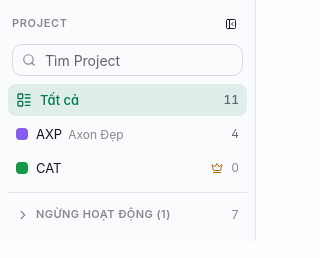
it: JobProjectSidebar (PD-067, PD-078) › searches code and name, accents ignored, in both groups
The image size is (320, 258).
In the search field labelled "Tìm Project": [128, 60] box left=12, top=44, right=243, bottom=76, type "dep"
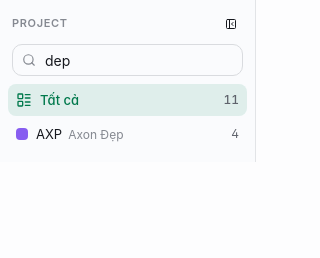
Replace the text in the search field named "Tìm Project" with "bri": [128, 60] box left=12, top=44, right=243, bottom=76
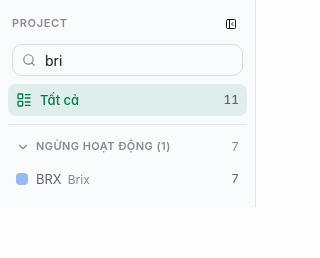
Replace the text in the search field named "Tìm Project" with "zzz": [128, 60] box left=12, top=44, right=243, bottom=76
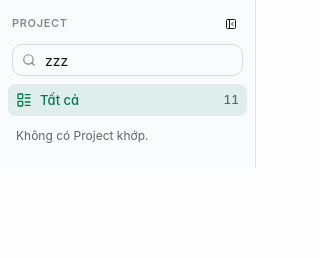
Now the text "Không có Project khớp." is shown, box left=16, top=128, right=148, bottom=143
